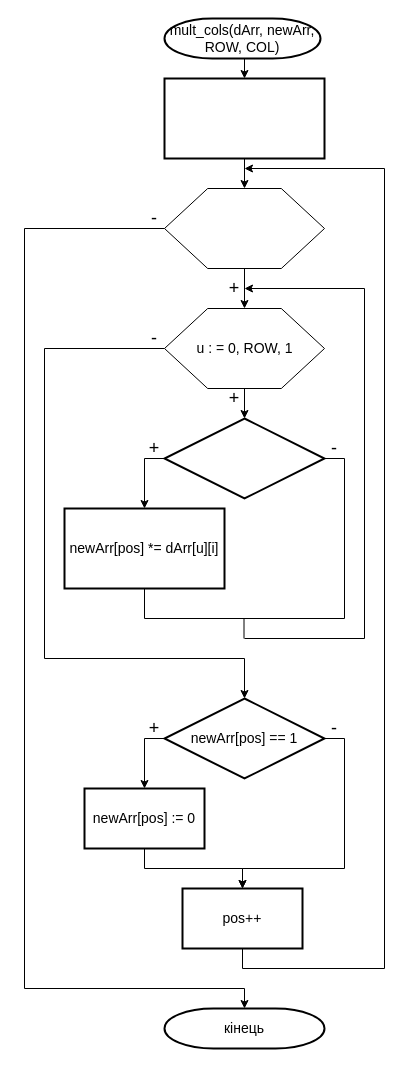
This 410x1066 diagram has some shape labels left out. Here are the shapes that lost their labels. From the top down, the centre of each, then its label:
[244,118]: pos := 0
[244,228]: i : = 0, COL, 1
[244,458]: dArr[u][i] > 0
